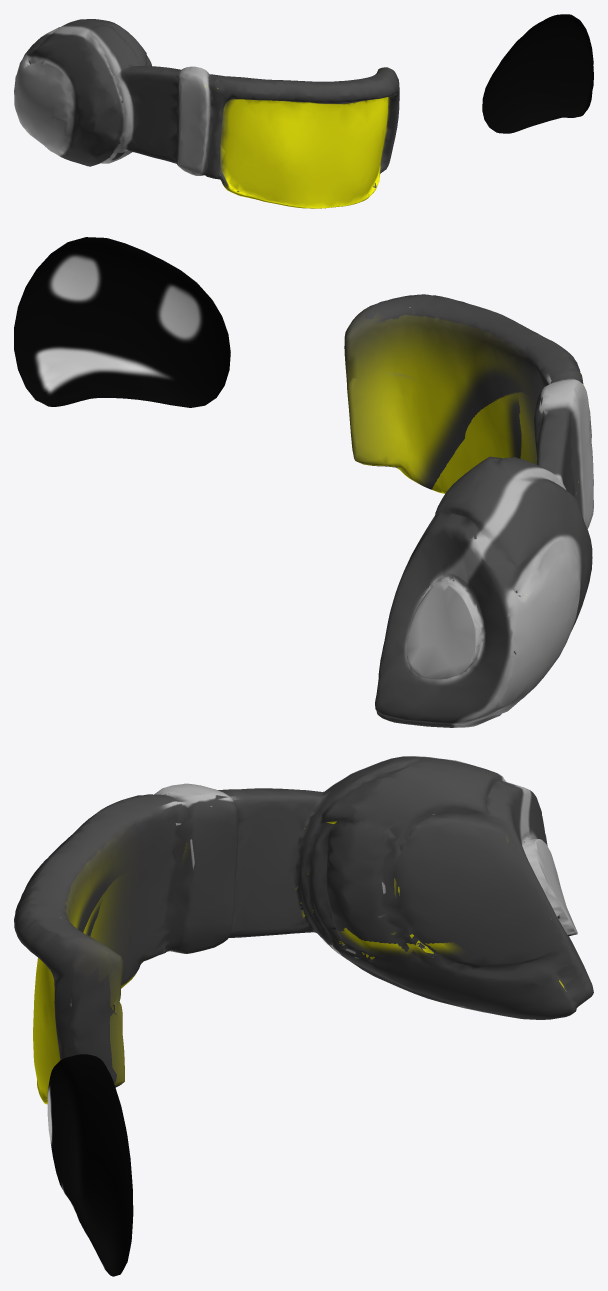
File: Yellow-Scanner.glb
3 views of the same model, one above another, from view 1: azimuth 30°, elevation 25°; view 2: azimuth 150°, elevation 25°; view 3: azimuth 270°, elevation 25° (orthographic). The views are drawn at different scales.
Visible parts, largest first — view 1: Sphere.002; view 2: Sphere.002; view 3: Sphere.002.
Boxes of the visible parts, left/top/right/bottom form: Sphere.002: left=14, top=14, right=593, bottom=208; Sphere.002: left=14, top=237, right=593, bottom=727; Sphere.002: left=14, top=756, right=593, bottom=1276.
Size of the model in its own units: 0.5042 by 0.1554 by 0.3325.
2 materials, 2 textured.
